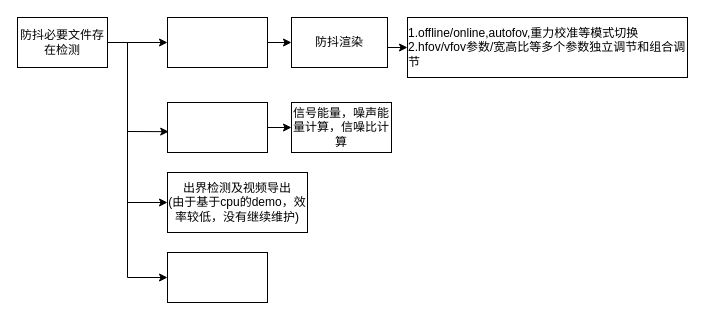
Some shapes in this 705 by 320 pixel diagram are drawn without their labels. Each missing label, with the centre of its shape:
camera-imu延迟估计: point (217, 277)
imu/exposure丢帧检测,imu值异常检测: point (217, 42)
设置imu噪声临界频率: point (217, 127)
